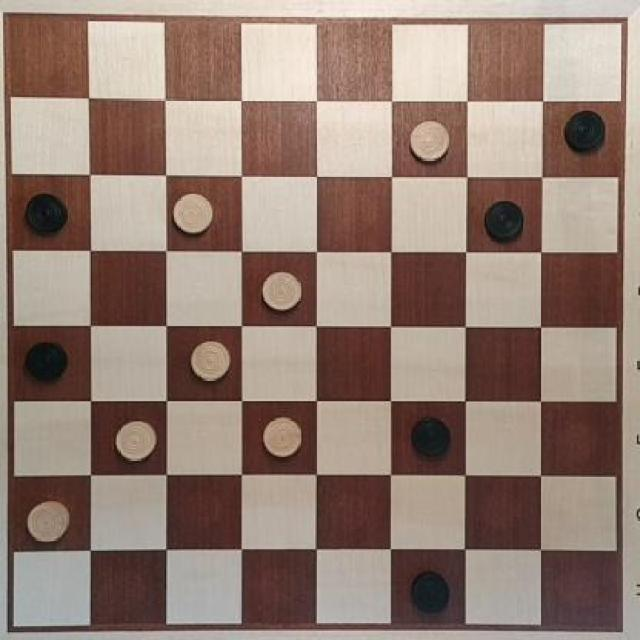BOARD: (7, 14, 624, 631)
black: (14, 332, 82, 393), (14, 181, 76, 247), (476, 191, 537, 255), (553, 104, 618, 164), (402, 412, 458, 460), (405, 566, 457, 616)
white: (163, 180, 225, 244), (176, 330, 240, 389), (106, 409, 161, 471), (403, 114, 459, 172), (249, 261, 308, 315), (21, 491, 76, 546), (254, 411, 306, 467)
